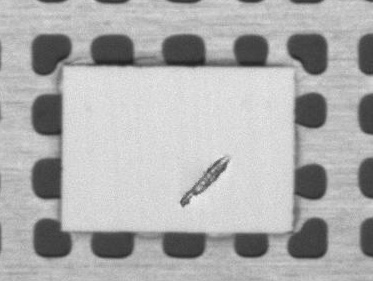DIE_INK: (178, 152, 235, 206)
